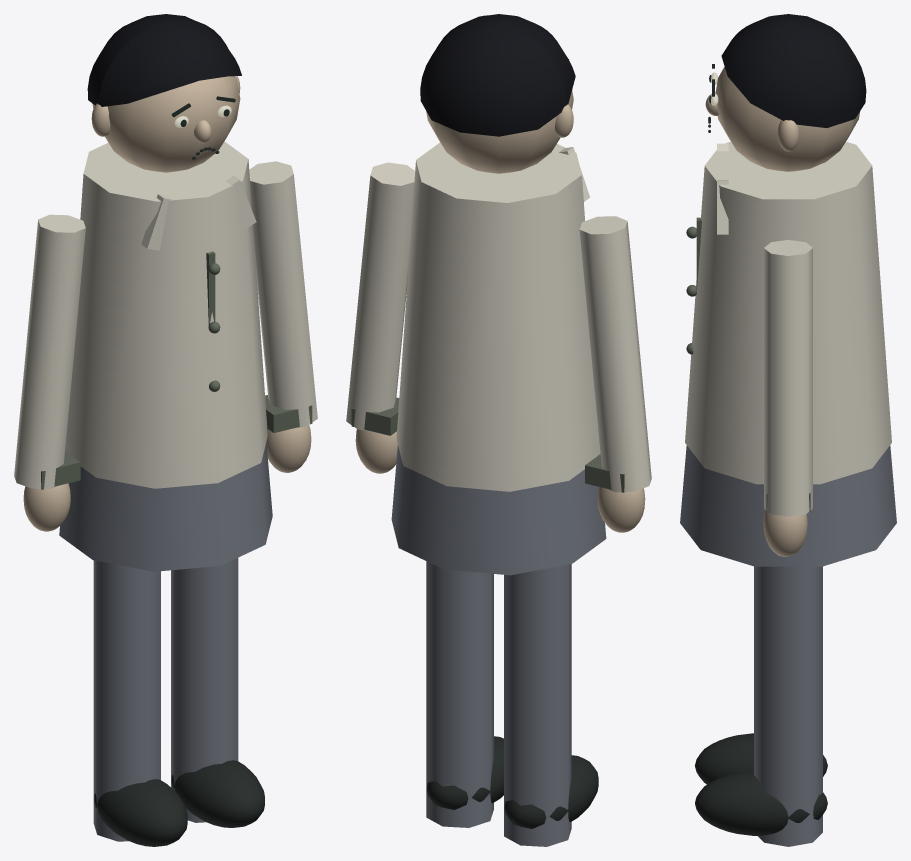
File: npc_Danu.glb
3 views of the same model, side by side, from view 1: azimuth 30°, elevation 25°; view 2: azimuth 150°, elevation 25°; view 3: azimuth 270°, elevation 25° (orthographic).
Parts seen in each view (by area): view 1: Source_958, Source_959, Source_983, Source_990, Source_979, Source_986, Source_962, Source_961, Source_984, Source_991, Source_980, Source_987 (+4 smaller); view 2: Source_958, Source_983, Source_959, Source_990, Source_962, Source_979, Source_986, Source_961, Source_984, Source_991, Source_980, Source_987 (+2 smaller); view 3: Source_958, Source_990, Source_959, Source_986, Source_962, Source_961, Source_991, Source_984, Source_987, Source_964, Source_976, Source_977.
Boxes of the visible parts, x1,y1,x2,y2 form: Source_958: (65, 141, 267, 488); Source_959: (59, 442, 272, 571); Source_983: (93, 560, 160, 841); Source_990: (171, 558, 238, 822); Source_979: (14, 214, 85, 489); Source_986: (249, 161, 317, 427); Source_962: (87, 14, 241, 106); Source_961: (92, 76, 240, 172); Source_984: (94, 779, 187, 846); Source_991: (171, 760, 264, 827); Source_980: (23, 483, 70, 531); Source_987: (266, 425, 311, 472); Source_958: (396, 142, 600, 491); Source_983: (504, 564, 571, 846); Source_959: (391, 445, 606, 575); Source_990: (426, 561, 493, 827); Source_962: (420, 14, 575, 136); Source_979: (579, 216, 651, 492); Source_986: (346, 162, 415, 431); Source_961: (426, 90, 573, 173); Source_984: (504, 755, 598, 828); Source_991: (426, 736, 503, 809); Source_980: (597, 487, 645, 532); Source_987: (355, 429, 397, 473); Source_958: (685, 141, 891, 484); Source_990: (754, 566, 822, 846); Source_959: (680, 445, 896, 566); Source_986: (764, 240, 812, 516); Source_962: (721, 14, 866, 127); Source_961: (715, 67, 859, 171); Source_991: (695, 771, 827, 835); Source_984: (695, 733, 827, 784); Source_987: (763, 510, 807, 556); Source_964: (777, 120, 799, 151); Source_976: (686, 217, 701, 354); Source_977: (717, 143, 728, 234).
Size of the model in its own units: 0.6954 by 1.77 by 0.44.
